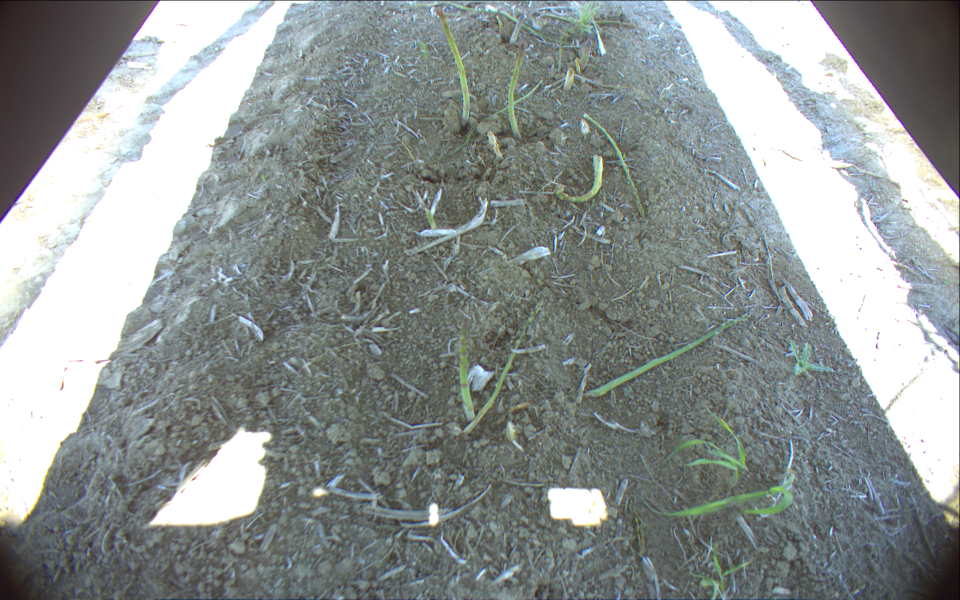aspa: (433, 6, 472, 133), (454, 314, 477, 422), (506, 43, 526, 144)
